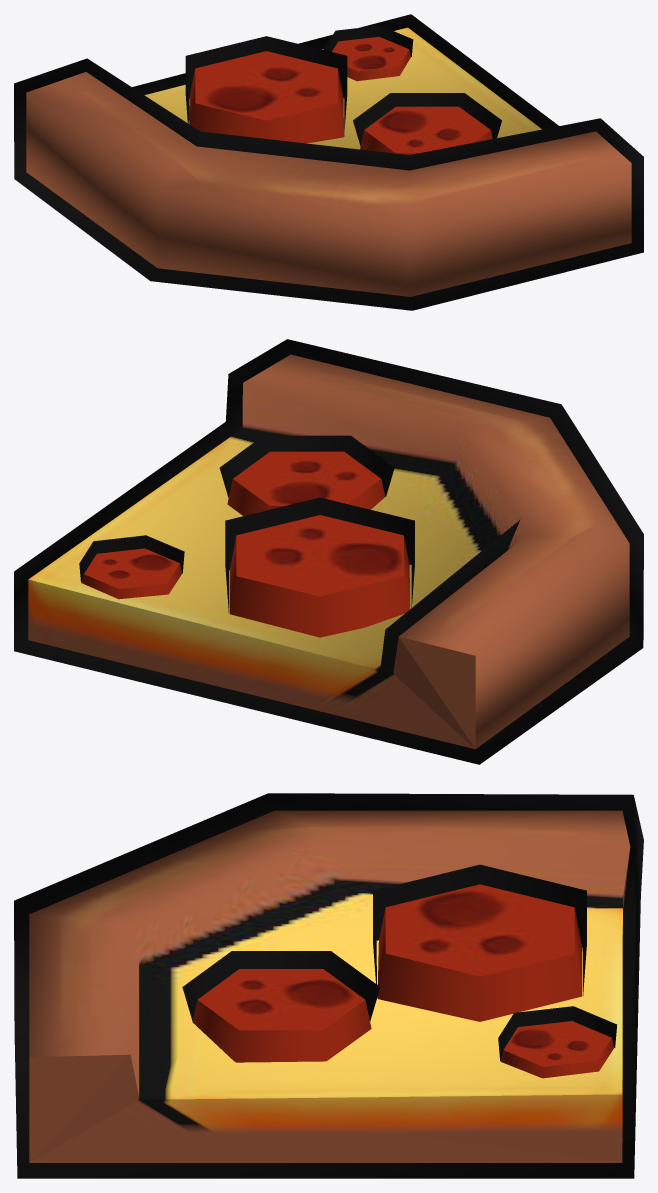
Rendered from pizza.FBX.
3 renders of one model, top to bottom at view 1: azimuth 30°, elevation 25°; view 2: azimuth 150°, elevation 25°; view 3: azimuth 270°, elevation 25°, orthographic. The views are drawn at different scales.
Parts seen in each view (by area): view 1: Box028; view 2: Box028; view 3: Box028.
Boxes of the visible parts, x1,y1,x2,y2 form: Box028: (14,14,643,310); Box028: (14,339,643,764); Box028: (14,793,643,1178).
Size of the model in its own units: 0.7528 by 0.1979 by 0.7697.
